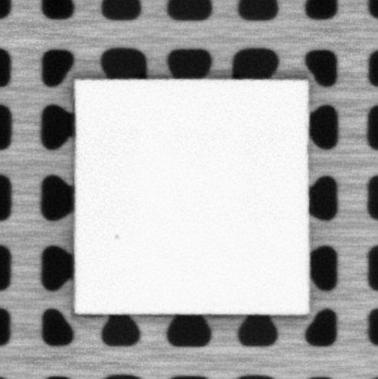DIE_INK: (112, 231, 120, 242)
